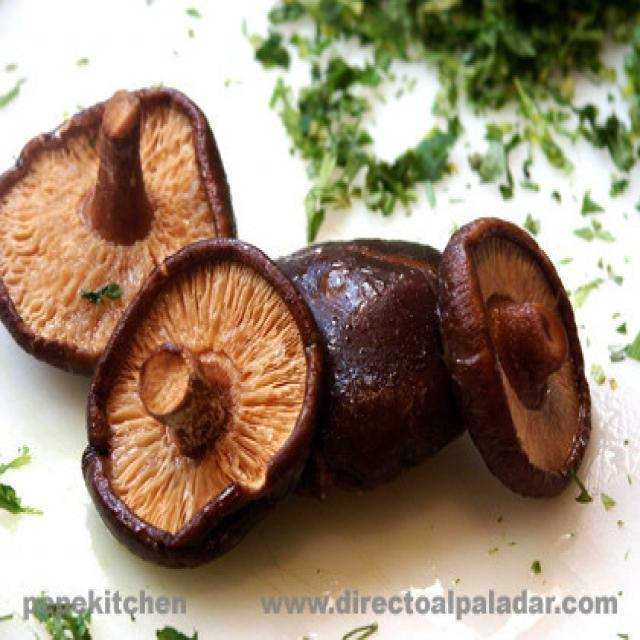Lentinus edodes: (82, 236, 324, 566), (2, 83, 237, 377), (277, 235, 477, 478), (440, 218, 594, 496)
